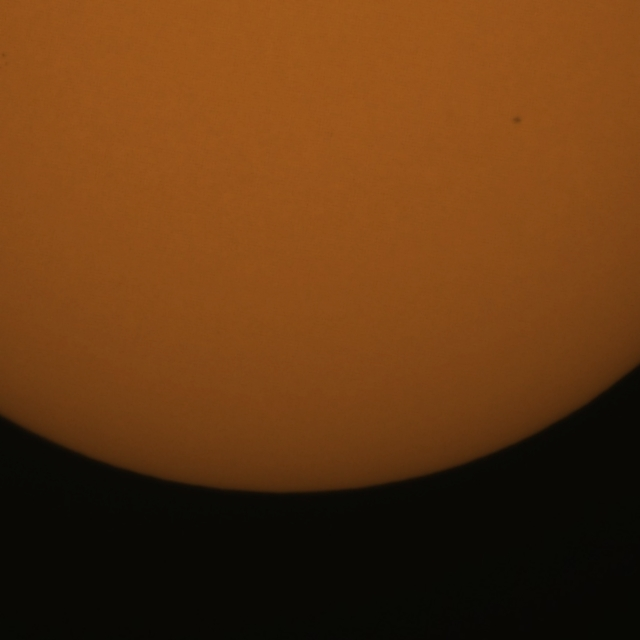sunspot: (511, 114, 524, 126)
